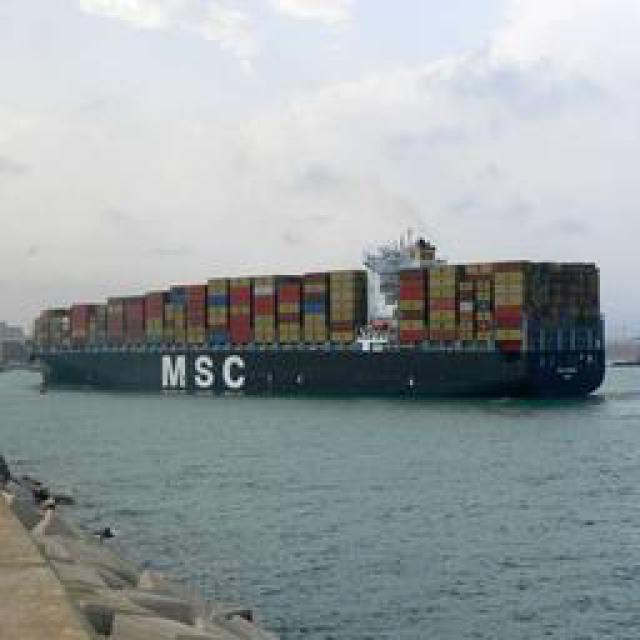Ship: (20, 220, 623, 409)
